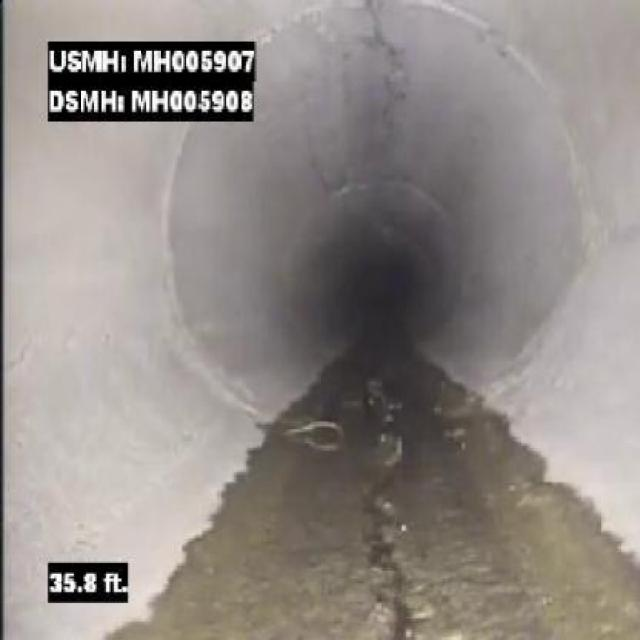Crack: (348, 437, 446, 629), (340, 8, 428, 155)
